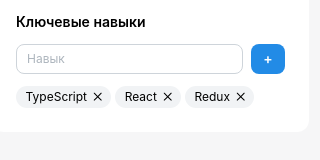
SkillSet component › when you click the Delete button, the skill should be deleted.
Check: the text "React" is shown, box [115,86,181,108]
Click the button without text next to "React".
click(169, 97)  # box [157,86,181,108]
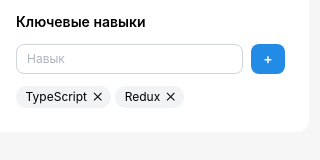
Check: the text "React" is gone
